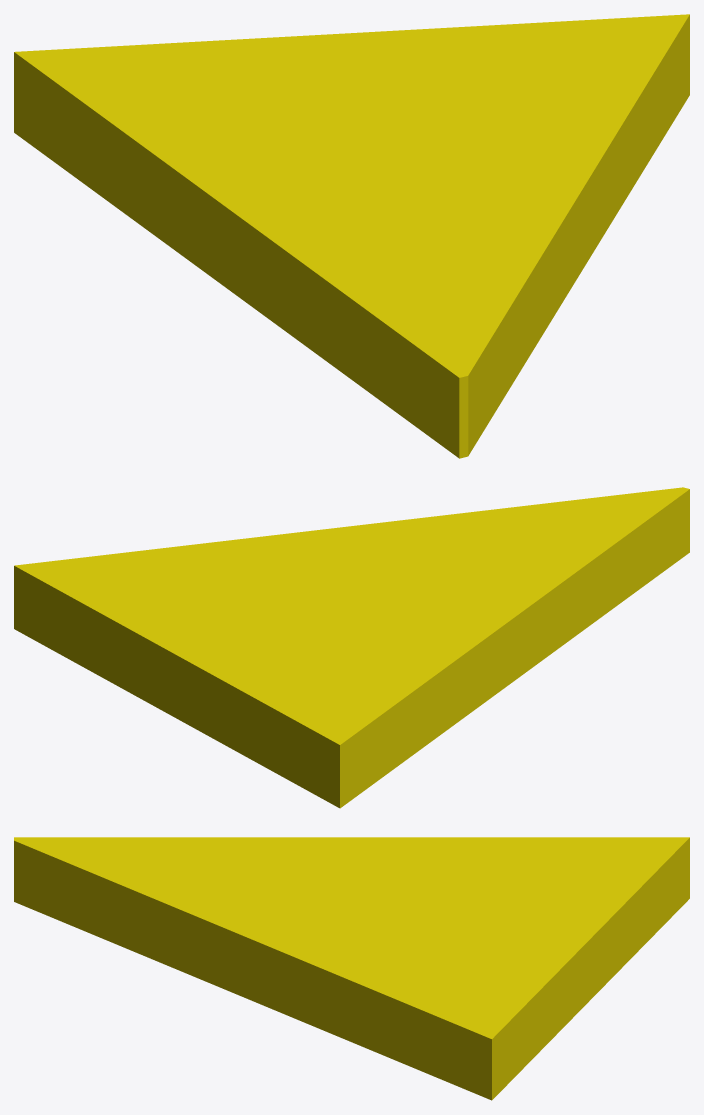
Rendered from Item8.fbx.
3 views of the same model, one above another, from view 1: azimuth 30°, elevation 25°; view 2: azimuth 150°, elevation 25°; view 3: azimuth 270°, elevation 25° (orthographic). The views are drawn at different scales.
Parts seen in each view (by area): view 1: Cylinder.008; view 2: Cylinder.008; view 3: Cylinder.008.
Boxes of the visible parts, bbox=[...] form: Cylinder.008: bbox=[14, 14, 689, 458]; Cylinder.008: bbox=[14, 487, 689, 808]; Cylinder.008: bbox=[14, 837, 689, 1100].
Bounding box in the file's own units: 141 × 20 × 200.
